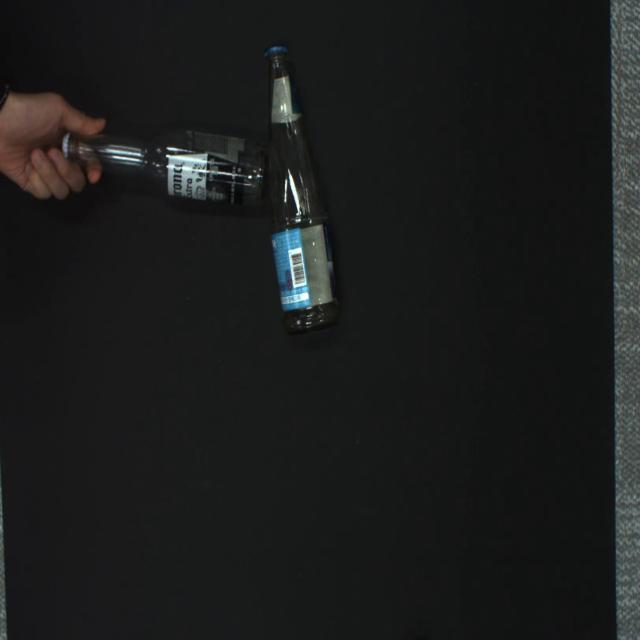beer-bottle: (264, 46, 342, 335), (63, 127, 266, 207)
